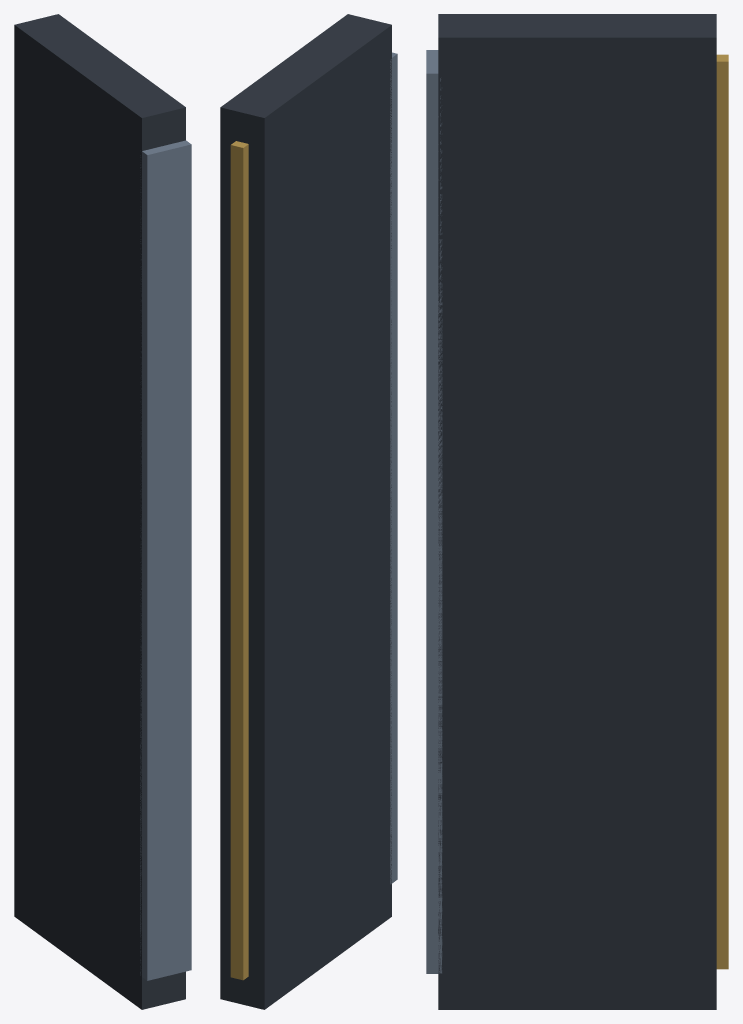
The model's file is ram-vengeance.glb.
The picture shows the model from 3 angles, left to right: view 1: azimuth 30°, elevation 25°; view 2: azimuth 150°, elevation 25°; view 3: azimuth 270°, elevation 25°; orthographic projection. The views are drawn at different scales.
Parts seen in each view (by area): view 1: Heat spreader, Top strip; view 2: Heat spreader, Contact edge, Top strip; view 3: Heat spreader, Top strip, Contact edge.
Boxes of the visible parts, bbox=[...] form: Heat spreader: bbox=[14, 14, 185, 1009]; Top strip: bbox=[140, 140, 191, 980]; Heat spreader: bbox=[220, 14, 391, 1009]; Contact edge: bbox=[230, 141, 248, 980]; Top strip: bbox=[390, 52, 397, 884]; Heat spreader: bbox=[438, 14, 716, 1009]; Top strip: bbox=[426, 50, 442, 973]; Contact edge: bbox=[716, 54, 728, 969].
Bounding box in the file's own units: 0.007 × 0.135 × 0.038.
